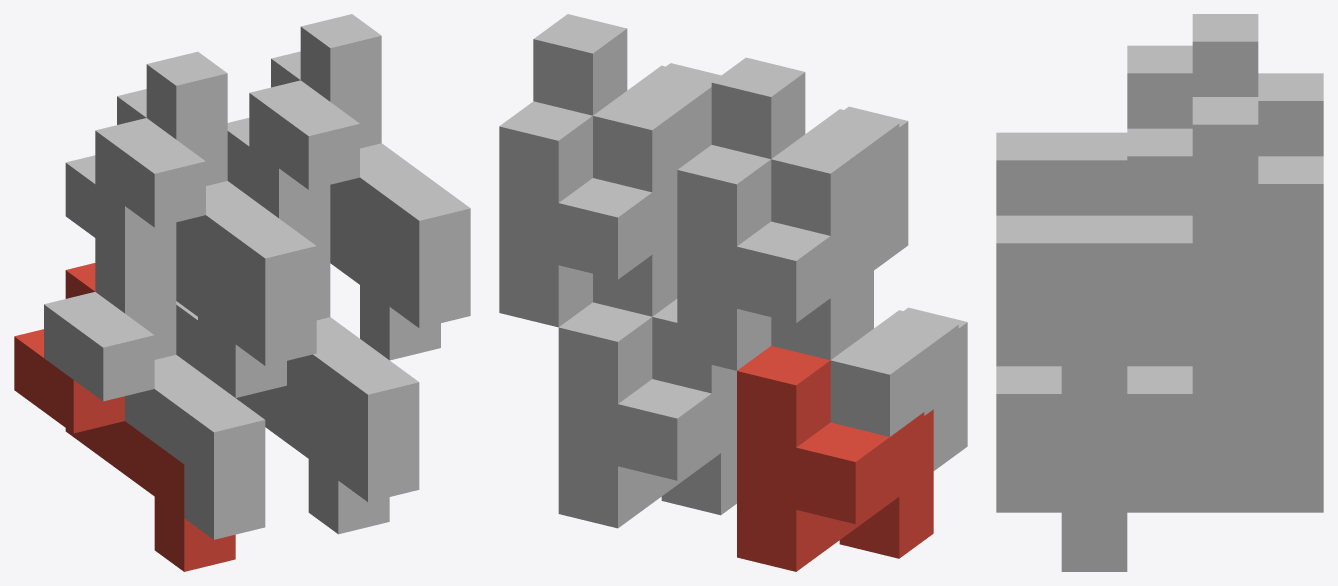
The model's file is tiling.obj.
The picture shows the model from 3 angles, left to right: view 1: azimuth 30°, elevation 25°; view 2: azimuth 150°, elevation 25°; view 3: azimuth 270°, elevation 25°; orthographic projection. The views are drawn at different scales.
Parts seen in each view (by area): view 1: copy_1_domain_4, copy_1_domain_8, copy_1_domain_2, copy_1_domain_6, copy_1_domain_1, copy_1_domain_3, copy_1_domain_7, copy_1_domain_5; view 2: copy_1_domain_1, copy_1_domain_5, copy_1_domain_3, copy_1_domain_7, copy_1_domain_4, copy_1_domain_2, copy_1_domain_8, copy_1_domain_6; view 3: copy_1_domain_8, copy_1_domain_7, copy_1_domain_5, copy_1_domain_6, copy_1_domain_4, copy_1_domain_3.
Part boxes in pixels (x1,y1,x2,y2): copy_1_domain_4: (95, 51, 316, 365); copy_1_domain_8: (249, 14, 470, 328); copy_1_domain_2: (44, 238, 265, 539); copy_1_domain_6: (198, 209, 419, 502); copy_1_domain_1: (14, 263, 235, 571); copy_1_domain_3: (65, 89, 286, 397); copy_1_domain_7: (227, 51, 440, 360); copy_1_domain_5: (176, 301, 389, 534); copy_1_domain_1: (737, 346, 933, 571); copy_1_domain_5: (558, 302, 736, 528); copy_1_domain_3: (677, 145, 873, 370); copy_1_domain_7: (499, 101, 677, 327); copy_1_domain_4: (711, 57, 908, 270); copy_1_domain_2: (771, 273, 967, 470); copy_1_domain_8: (533, 14, 720, 192); copy_1_domain_6: (593, 236, 736, 393); copy_1_domain_8: (996, 97, 1258, 362); copy_1_domain_7: (1061, 156, 1323, 421); copy_1_domain_5: (1061, 362, 1323, 571); copy_1_domain_6: (996, 362, 1258, 512); copy_1_domain_4: (996, 14, 1258, 215); copy_1_domain_3: (1258, 73, 1323, 156).
Bounding box in the file's own units: 6 × 8 × 5.
